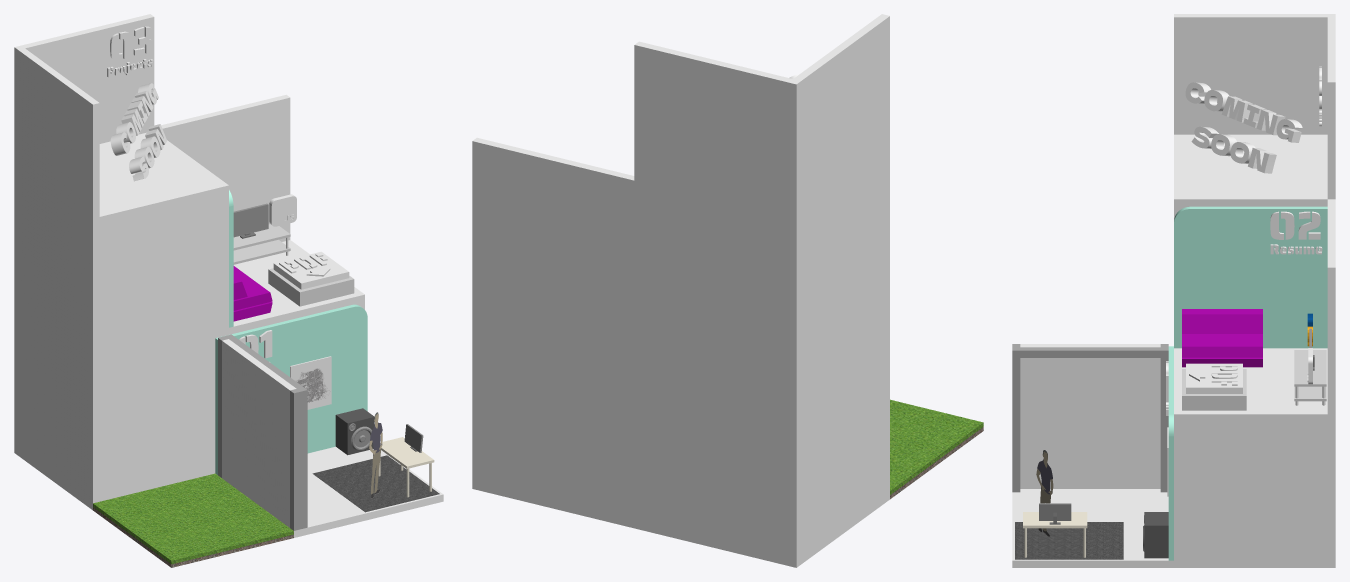
Rendered from maxtower.glb.
The picture shows the model from 3 angles, left to right: view 1: azimuth 30°, elevation 25°; view 2: azimuth 150°, elevation 25°; view 3: azimuth 270°, elevation 25°; orthographic projection. The views are drawn at different scales.
Parts seen in each view (by area): view 1: group_3, group_42, group_2, group_47, group_44, group_1, group_9, image_0, group_10, group_39, group_29, group_14 (+6 smaller); view 2: group_3, group_42; view 3: group_3, group_2, group_46, group_1, group_44, group_15, group_14, group_9, group_47, group_10, group_39, group_18 (+10 smaller).
Boxes of the visible parts, x1=… form: group_3: x1=14, y1=14, x2=443, y2=537; group_42: x1=93, y1=473, x2=293, y2=564; group_2: x1=222, y1=339, x2=296, y2=527; group_47: x1=215, y1=304, x2=367, y2=474; group_44: x1=312, y1=455, x2=439, y2=512; group_1: x1=218, y1=334, x2=307, y2=530; group_9: x1=268, y1=268, x2=354, y2=306; image_0: x1=290, y1=357, x2=331, y2=409; group_10: x1=273, y1=251, x2=349, y2=289; group_39: x1=335, y1=408, x2=374, y2=455; group_29: x1=380, y1=437, x2=434, y2=468; group_14: x1=233, y1=266, x2=272, y2=310; group_3: x1=472, y1=14, x2=889, y2=567; group_42: x1=890, y1=399, x2=983, y2=494; group_3: x1=1012, y1=14, x2=1335, y2=567; group_2: x1=1020, y1=344, x2=1160, y2=488; group_46: x1=1174, y1=206, x2=1327, y2=348; group_1: x1=1012, y1=344, x2=1168, y2=492; group_44: x1=1015, y1=522, x2=1123, y2=559; group_15: x1=1182, y1=309, x2=1262, y2=333; group_14: x1=1182, y1=334, x2=1262, y2=357; group_9: x1=1182, y1=369, x2=1246, y2=410; group_47: x1=1168, y1=346, x2=1173, y2=560; group_10: x1=1186, y1=363, x2=1242, y2=393; group_39: x1=1144, y1=512, x2=1168, y2=558; group_18: x1=1294, y1=350, x2=1326, y2=386.
Size of the model in its own units: 6.1 by 8.69 by 6.1.
Materials: 23 (5 with a texture image).
